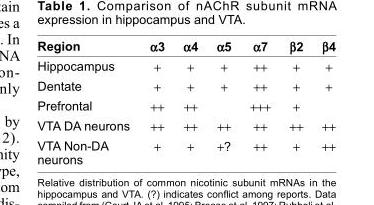table: (36, 37, 334, 165)
table column: (36, 37, 138, 165), (239, 37, 279, 165), (138, 37, 173, 165), (173, 37, 206, 165), (206, 37, 239, 165), (279, 37, 311, 165), (311, 37, 334, 165)
table column header: (36, 37, 334, 55)
table row: (36, 135, 334, 165), (36, 55, 334, 75), (36, 75, 334, 95), (36, 95, 334, 115), (36, 115, 334, 135), (36, 37, 334, 55)
